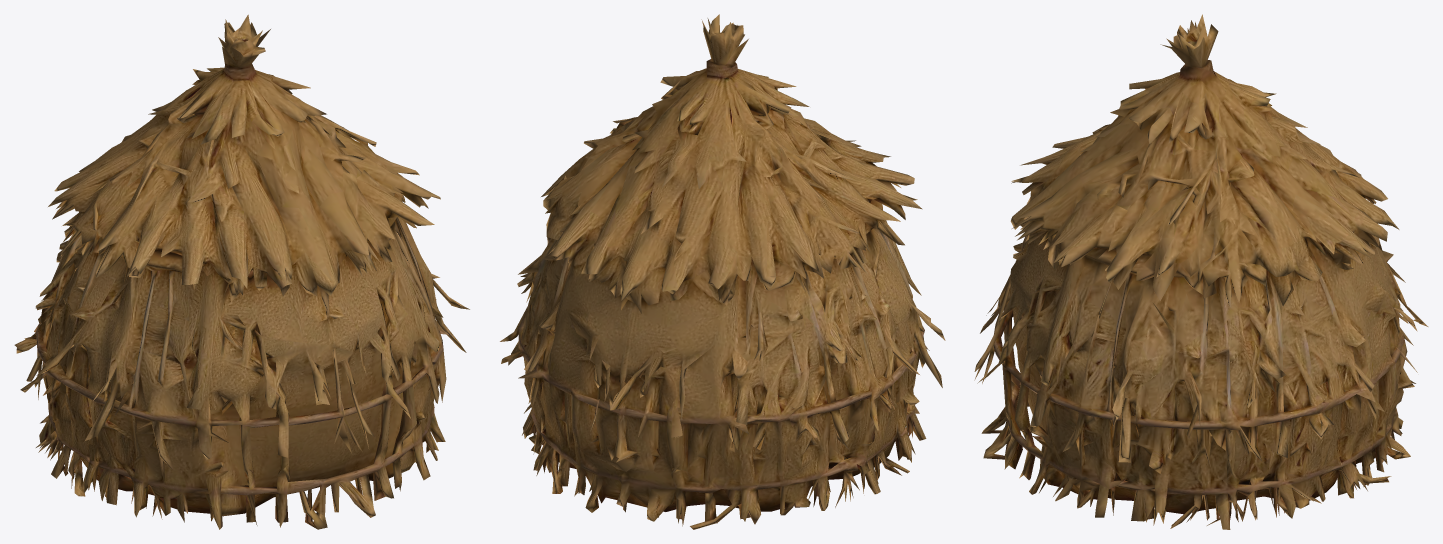
File: v-hay.glb
The picture shows the model from 3 angles, left to right: view 1: azimuth 30°, elevation 25°; view 2: azimuth 150°, elevation 25°; view 3: azimuth 270°, elevation 25°; orthographic projection.
Parts seen in each view (by area): view 1: tripo_node_0f8fb3d4-189b-4ca3-b7f2-80a0a87b71ec; view 2: tripo_node_0f8fb3d4-189b-4ca3-b7f2-80a0a87b71ec; view 3: tripo_node_0f8fb3d4-189b-4ca3-b7f2-80a0a87b71ec.
Boxes of the visible parts, x1,y1,x2,y2 form: tripo_node_0f8fb3d4-189b-4ca3-b7f2-80a0a87b71ec: (14,14,469,529); tripo_node_0f8fb3d4-189b-4ca3-b7f2-80a0a87b71ec: (500,14,945,529); tripo_node_0f8fb3d4-189b-4ca3-b7f2-80a0a87b71ec: (974,14,1428,529).
Size of the model in its own units: 0.9813 by 1 by 0.96.
Materials: 1 (1 with a texture image).
